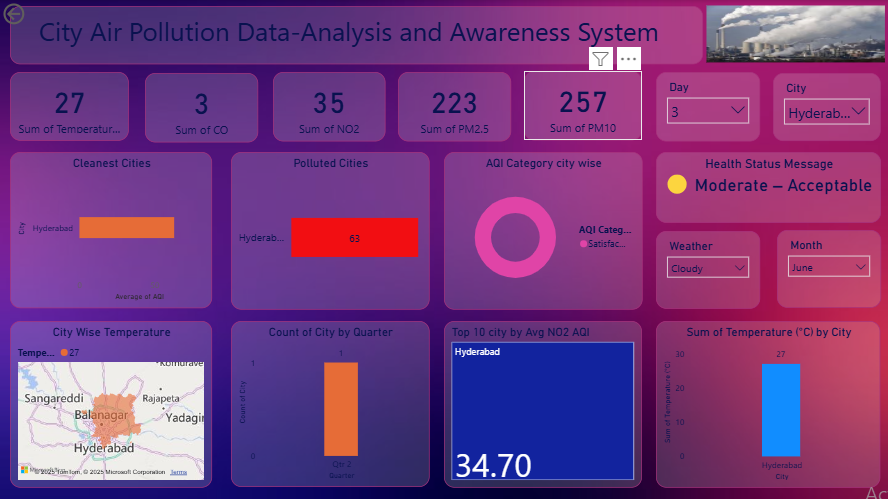

The dashboard page shown, as its layout file describes it:
{"tool":"powerbi","page":{"name":"Page 1","canvas":[1280,720],"ordinal":0},"visuals":[{"type":"image","box":[1012.9,3.4,267.1,92.4],"z":0},{"type":"textbox","box":[15.1,8.4,997.8,84],"z":1000},{"type":"card","fields":{"Values":["Sum(Sheet1.Temperature (°C))"]},"box":[15.1,104.1,171.3,99.1],"z":2000},{"type":"card","fields":{"Values":["Sum(Sheet1.CO)"]},"box":[208.3,105,163.3,100],"z":3000},{"type":"card","fields":{"Values":["Sum(Sheet1.NO2)"]},"box":[393.3,103.3,161.7,100],"z":4000},{"type":"card","fields":{"Values":["Sum(Sheet1.PM2.5)"]},"box":[573.3,103.3,163.3,100],"z":5000},{"type":"card","fields":{"Values":["Sum(Sheet1.PM10)"]},"box":[755,101.7,170,100],"z":6000},{"type":"actionButton","box":[0,0,100,40],"z":7000},{"type":"slicer","fields":{"Values":["Sheet1.Date.Variation.Date Hierarchy.Day"]},"box":[945,103.3,150,100],"z":8000},{"type":"filledMap","title":"City Wise Temperature","fields":{"Category":["Sheet1.City"],"Series":["Sheet1.Temperature (°C)"]},"box":[14.8,462.3,291.2,240.2],"z":9000},{"type":"slicer","fields":{"Values":["Sheet1.City"]},"box":[1113.3,105,155,98.3],"z":10000},{"type":"columnChart","fields":{"Category":["Sheet1.Date.Variation.Date Hierarchy.Quarter"],"Y":["CountNonNull(Sheet1.City)"]},"box":[332.1,462.5,285.7,239.3],"z":11000},{"type":"slicer","fields":{"Values":["Sheet1.Weather"]},"box":[945,333.3,150,111.7],"z":12000},{"type":"donutChart","title":" AQI Category city wise ","fields":{"Y":["CountNonNull(Sheet1.City)"],"Category":["Sheet1.AQI Category"]},"box":[640,218.4,285.6,226.8],"z":13000},{"type":"treemap","title":"   Top 10 city by Avg NO2 AQI","fields":{"Group":["Sheet1.City"],"Values":["Avg(Sheet1.NO2)"]},"box":[640,462.3,284.6,240.2],"z":14000},{"type":"funnel","title":"Top 5 Polluted Cities","fields":{"Category":["Sheet1.City"],"Y":["Max(Sheet1.AQI)"]},"box":[332.6,218.4,285.6,226.8],"z":15000},{"type":"slicer","fields":{"Values":["Sheet1.Date.Variation.Date Hierarchy.Month"]},"box":[1118.3,331.7,150,111.7],"z":16000},{"type":"columnChart","fields":{"Category":["Sheet1.City"],"Y":["Sum(Sheet1.Temperature (°C))"]},"box":[945,461.7,323.3,240],"z":17000},{"type":"multiRowCard","title":"Health Status Message","fields":{"Values":["Sheet1.HealthStatusMessage"]},"box":[944.4,218.8,324.1,102],"z":18000},{"type":"barChart","title":"Top 5 Cleanest Cities","fields":{"Category":["Sheet1.City"],"Y":["Avg(Sheet1.AQI)"]},"box":[14,218.8,291.2,225.4],"z":19000}]}

Visuals, with their boxes in screenshot pixels (x1, y1, x2, y2), scaled from the page's 1280x720 canvas onto the 888x499 screenshot:
image: left=703, top=2, right=887, bottom=66
textbox: left=10, top=6, right=703, bottom=64
card - Sum(Sheet1.Temperature (°C)): left=10, top=72, right=129, bottom=141
card - Sum(Sheet1.CO): left=145, top=73, right=258, bottom=142
card - Sum(Sheet1.NO2): left=273, top=72, right=385, bottom=141
card - Sum(Sheet1.PM2.5): left=398, top=72, right=511, bottom=141
card - Sum(Sheet1.PM10): left=524, top=70, right=642, bottom=140
actionButton: left=0, top=0, right=69, bottom=28
slicer - Sheet1.Date.Variation.Date Hierarchy.Day: left=656, top=72, right=760, bottom=141
"City Wise Temperature" filledMap: left=10, top=320, right=212, bottom=487
slicer - Sheet1.City: left=772, top=73, right=880, bottom=141
columnChart - Sheet1.Date.Variation.Date Hierarchy.Quarter x CountNonNull(Sheet1.City): left=230, top=321, right=429, bottom=486
slicer - Sheet1.Weather: left=656, top=231, right=760, bottom=308
" AQI Category city wise " donutChart: left=444, top=151, right=642, bottom=309
"   Top 10 city by Avg NO2 AQI" treemap: left=444, top=320, right=641, bottom=487
"Top 5 Polluted Cities" funnel: left=231, top=151, right=429, bottom=309
slicer - Sheet1.Date.Variation.Date Hierarchy.Month: left=776, top=230, right=880, bottom=307
columnChart - Sheet1.City x Sum(Sheet1.Temperature (°C)): left=656, top=320, right=880, bottom=486
"Health Status Message" multiRowCard: left=655, top=152, right=880, bottom=222
"Top 5 Cleanest Cities" barChart: left=10, top=152, right=212, bottom=308
